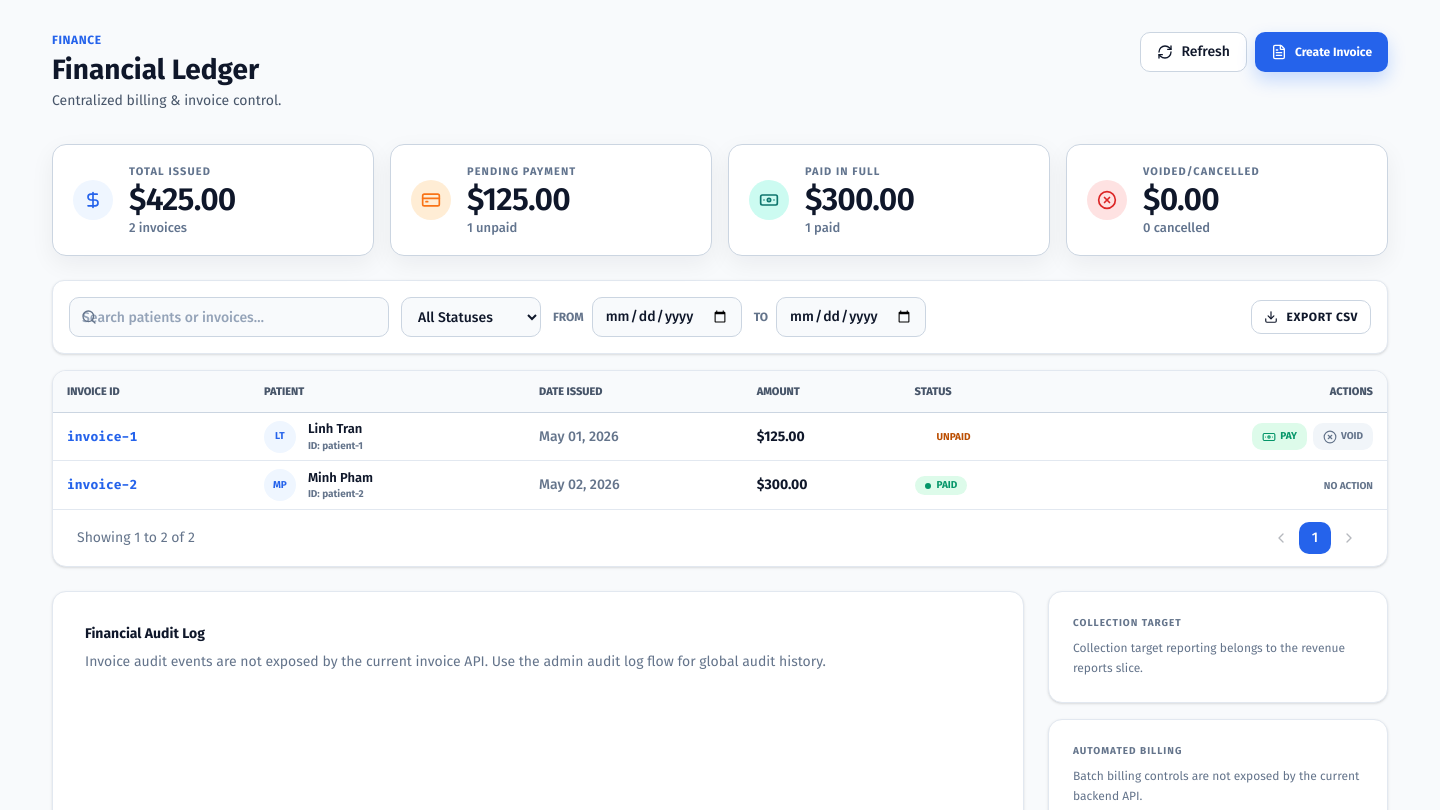
Test case: InvoicesPage › creates an invoice with a real completed appointment ID
The width and height of the screenshot is (1440, 810).
Expected: the text "Linh Tran" is shown, [308, 421, 362, 436]
Click the button "Create Invoice".
click(1321, 52)  # box [1255, 32, 1388, 72]
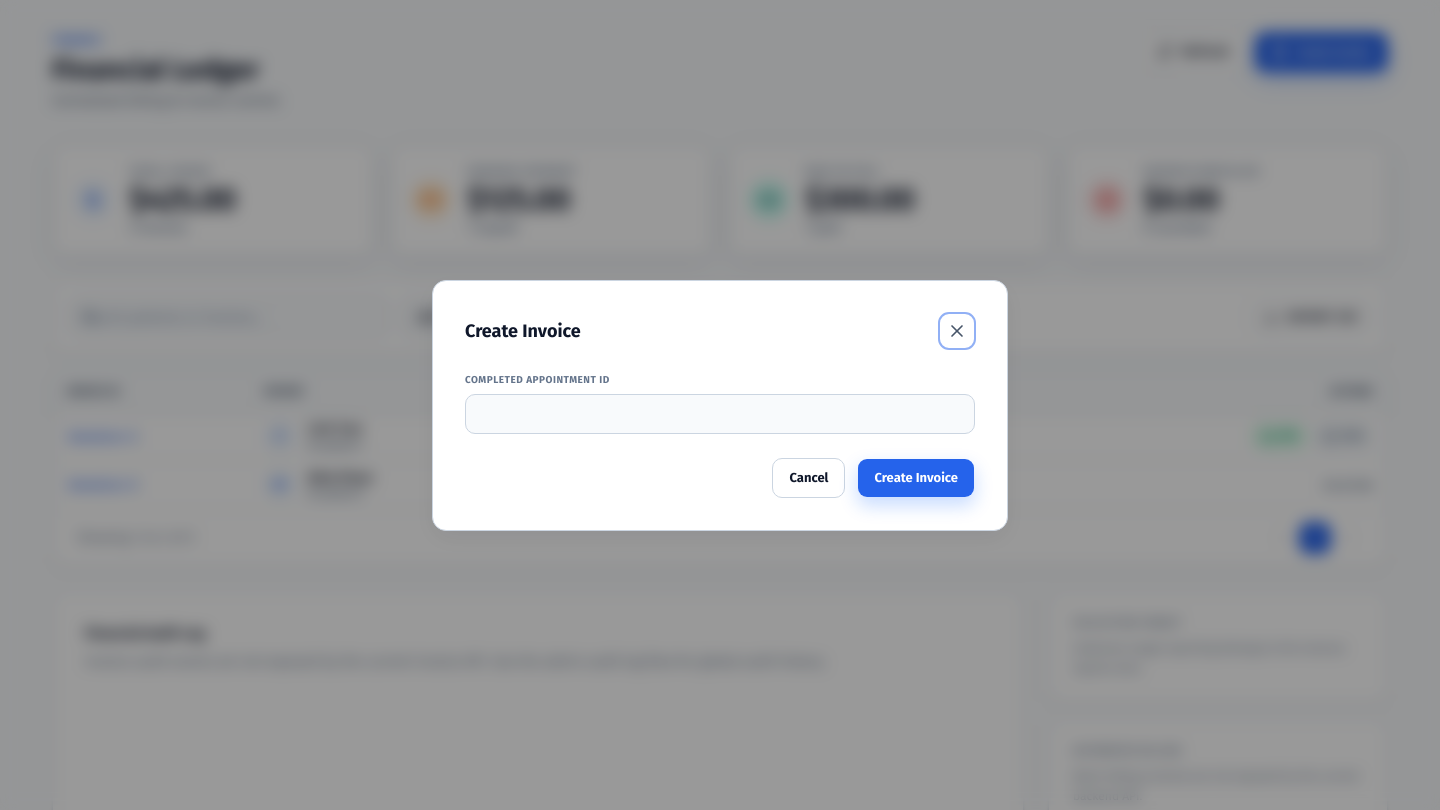
Type "appointment-100" into the field named "completed appointment id".
click(720, 414); type("appointment-100")  # box [465, 394, 975, 434]
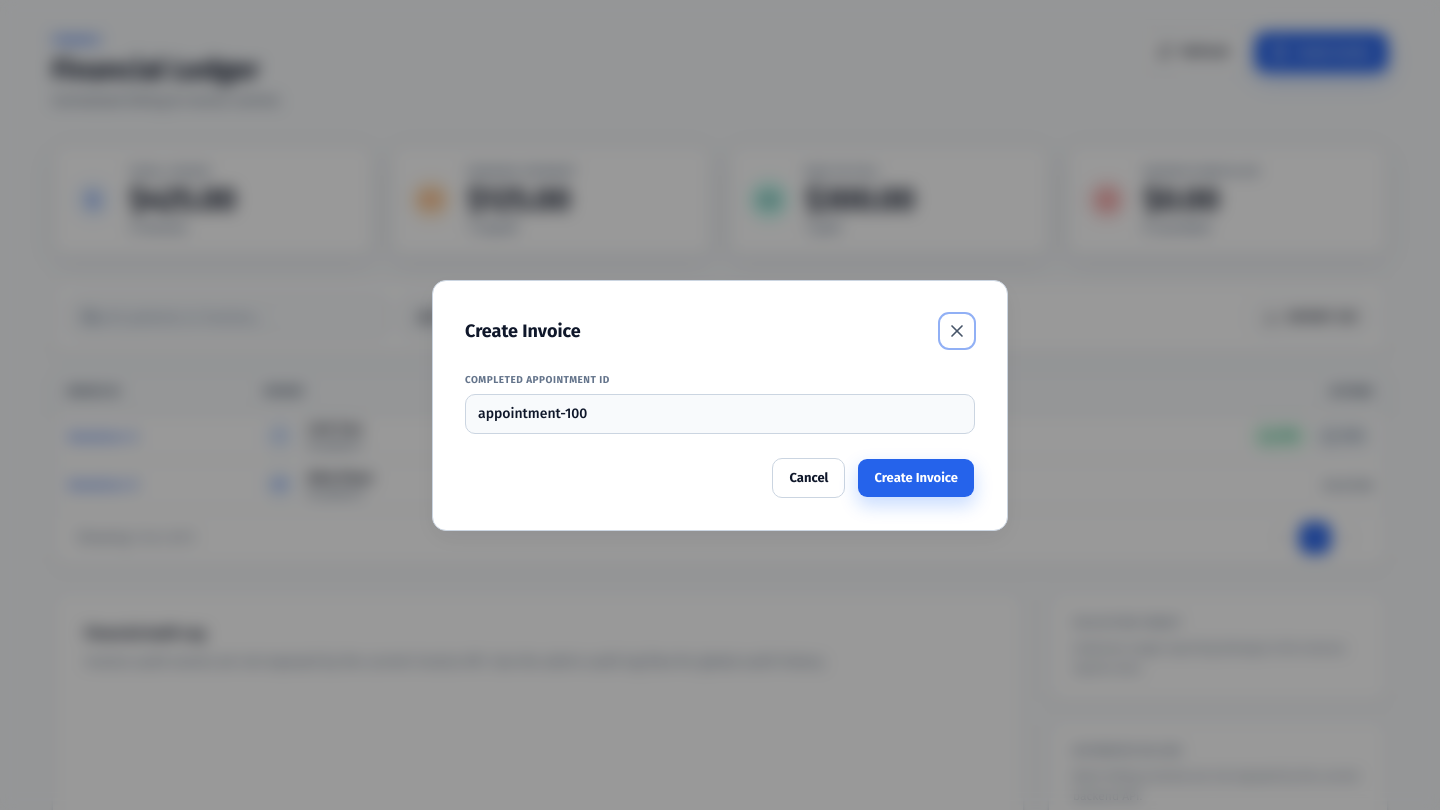
Click the button "Create Invoice".
click(916, 478)  # box [857, 458, 975, 498]
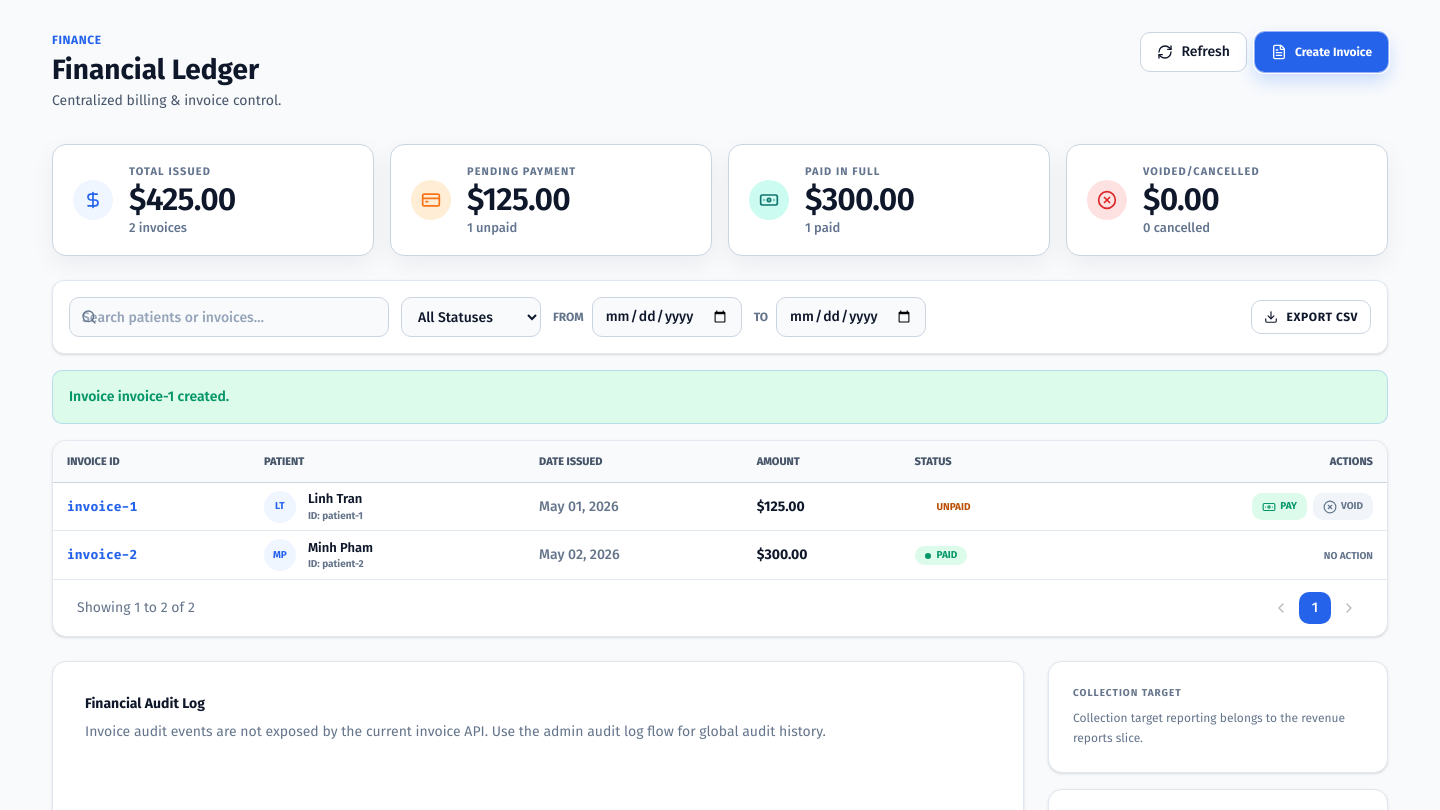
Expected: the message shows "Invoice invoice-1 created", [69, 388, 229, 405]
